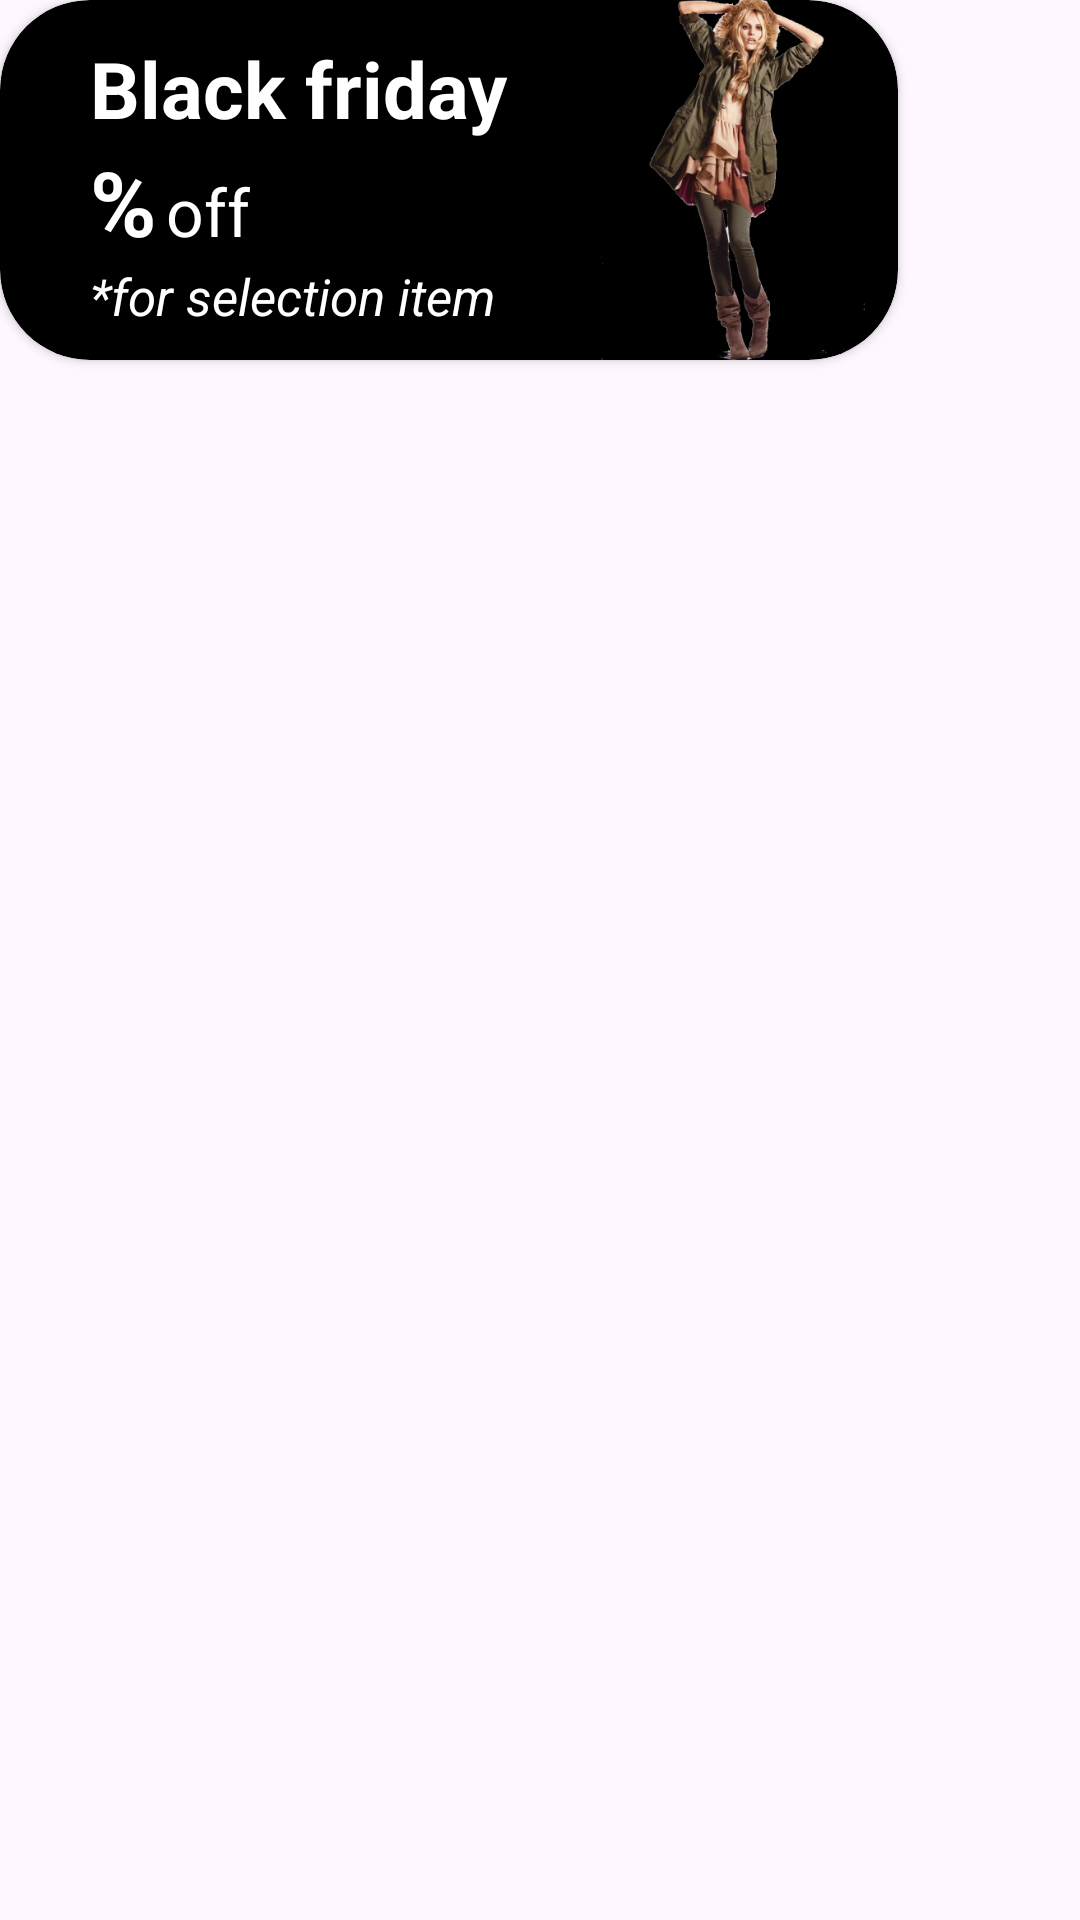

Screen size 1080x1920. Icon name, then its center in pixels as (x=x, y=y):
sales pic nobg: (x=742, y=180)
